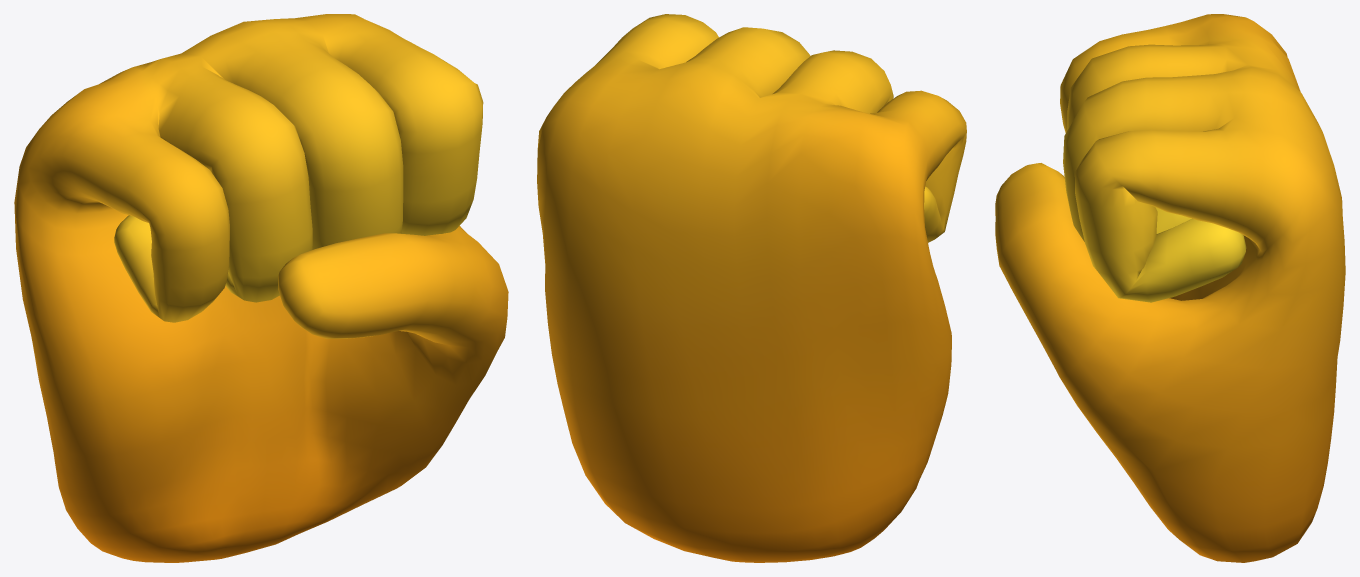
The model's file is raised_fist.glb.
3 renders of one model, left to right at view 1: azimuth 30°, elevation 25°; view 2: azimuth 150°, elevation 25°; view 3: azimuth 270°, elevation 25°, orthographic. The views are drawn at different scales.
Parts seen in each view (by area): view 1: hand.015; view 2: hand.015; view 3: hand.015.
Part boxes in pixels (x1=…): hand.015: x1=14, y1=14, x2=508, y2=562; hand.015: x1=537, y1=14, x2=966, y2=562; hand.015: x1=995, y1=14, x2=1345, y2=562.
Size of the model in its own units: 1.48 by 1.72 by 1.18.
2 materials, 2 textured.
